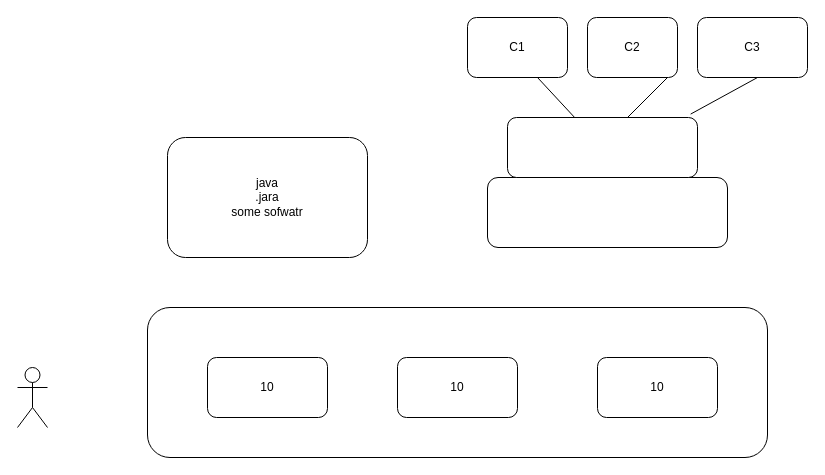
Some shapes in this 825 by 475 pixel diagram are drawn without their labels. The shapes that lost their labels are listed below. From the top down, each one's box as (x1, y1, x2, y2) in pixels, then its label:
(506, 116, 698, 178): docker
(486, 176, 728, 248): OS
(16, 366, 48, 428): Actor
